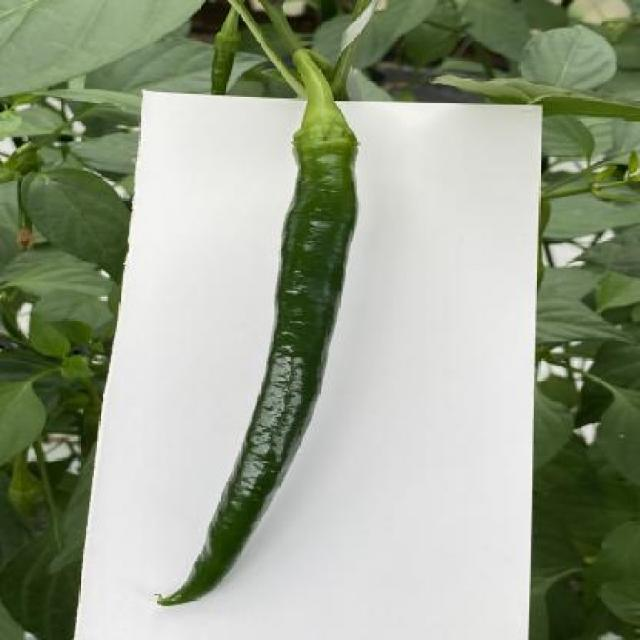green chilli: (249, 174, 388, 575)
